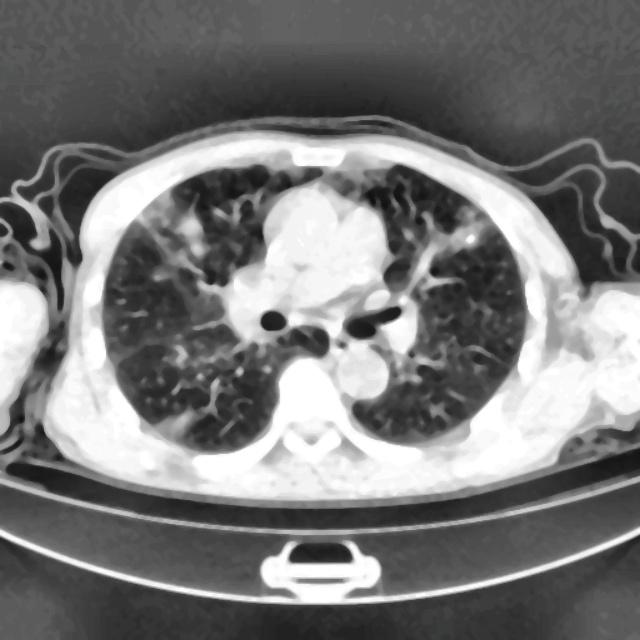covid: (1, 116, 638, 506)
